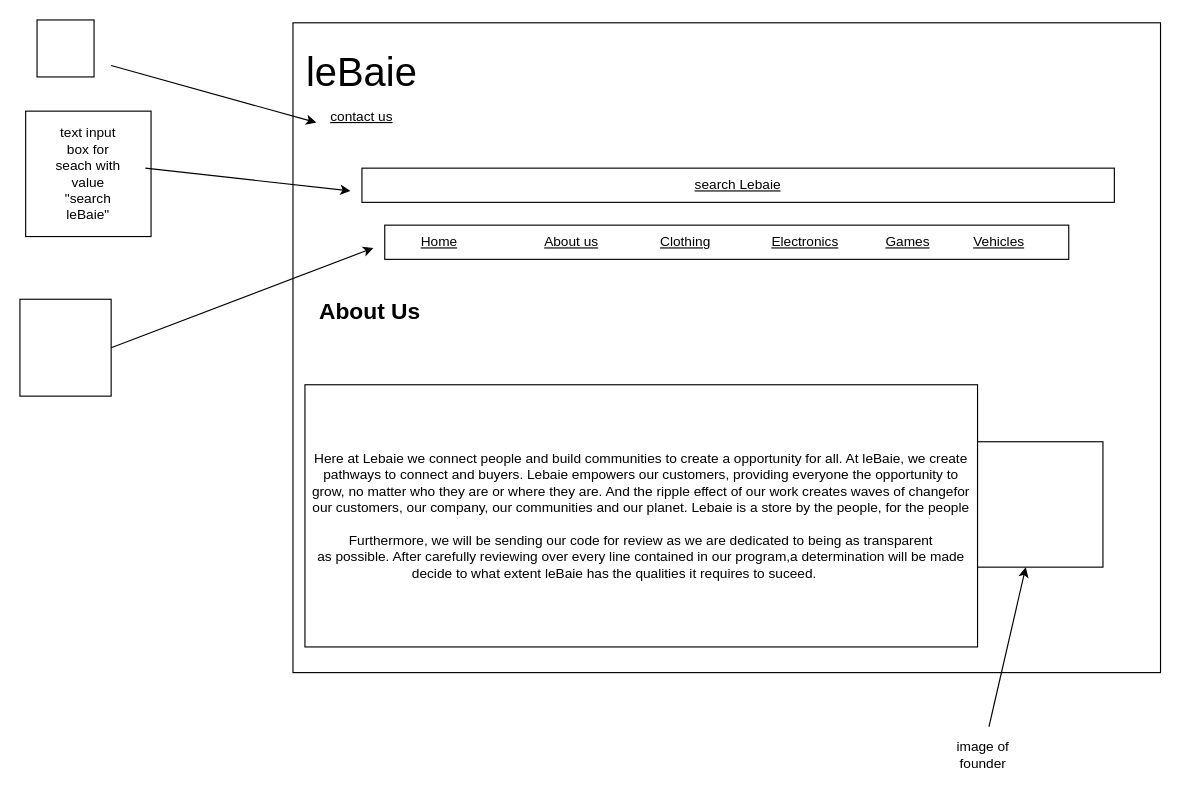
Some shapes in this 1181 by 792 pixel diagram are drawn without their labels. Each missing label, with the centre of its shape:
internal hyperlink: (x=65, y=48)
Navigation Bar containing internal hyperlinks: (x=65, y=347)
